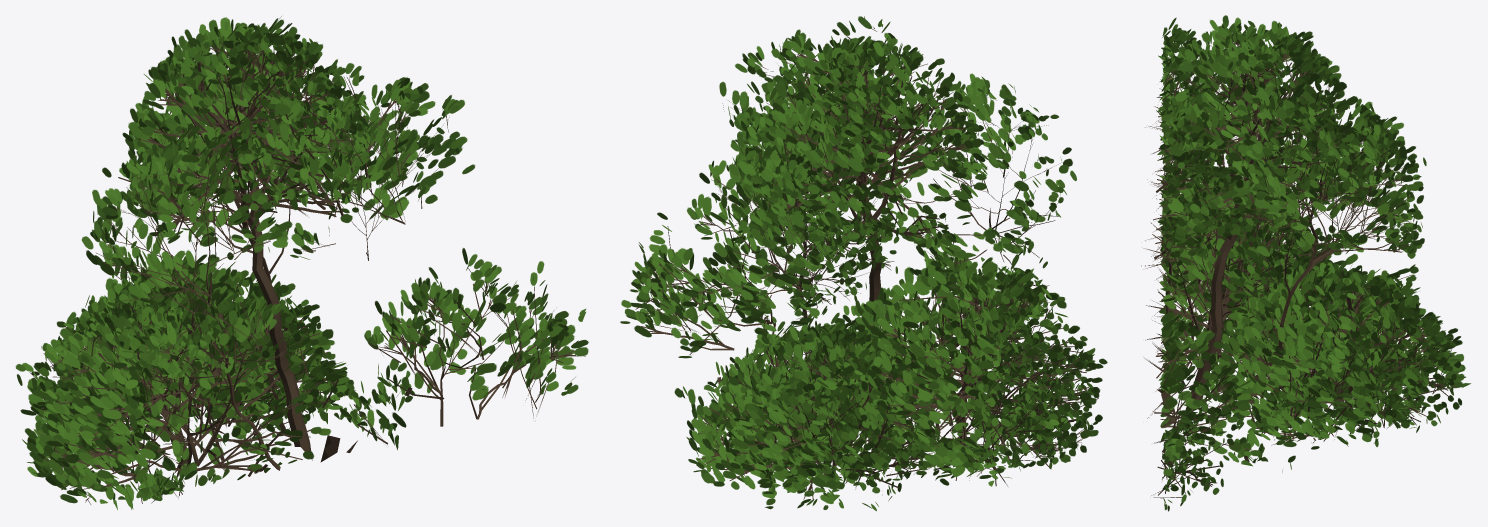
The picture shows the model from 3 angles, left to right: view 1: azimuth 30°, elevation 25°; view 2: azimuth 150°, elevation 25°; view 3: azimuth 270°, elevation 25°; orthographic projection. The views are drawn at different scales.
Parts seen in each view (by area): view 1: oak 01.001_trunk_Mat.001_0.280; view 2: oak 01.001_trunk_Mat.001_0.280; view 3: oak 01.001_trunk_Mat.001_0.280.
Part boxes in pixels (x1,y1,x2,y2): oak 01.001_trunk_Mat.001_0.280: (15,16,588,509); oak 01.001_trunk_Mat.001_0.280: (620,16,1107,511); oak 01.001_trunk_Mat.001_0.280: (1141,15,1470,511).
Bounding box in the file's own units: 5.09 × 4.1 × 3.15.
Materials: 2 (1 with a texture image).
